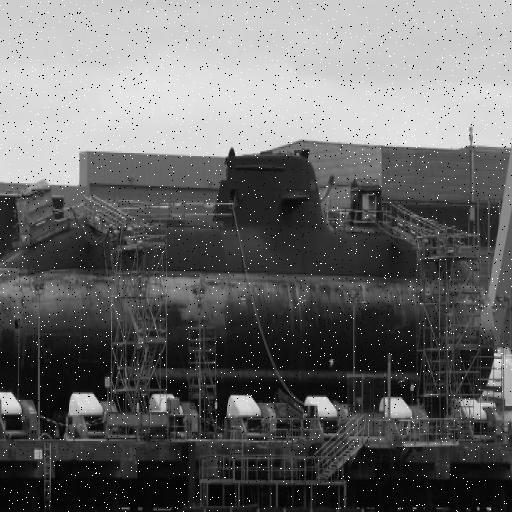submarine: (1, 156, 496, 394)
